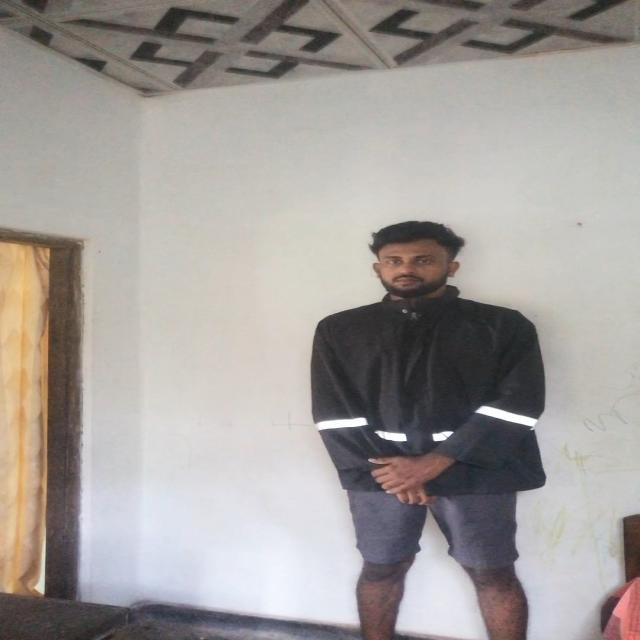Jacket_Wearer: (255, 293, 581, 490)
